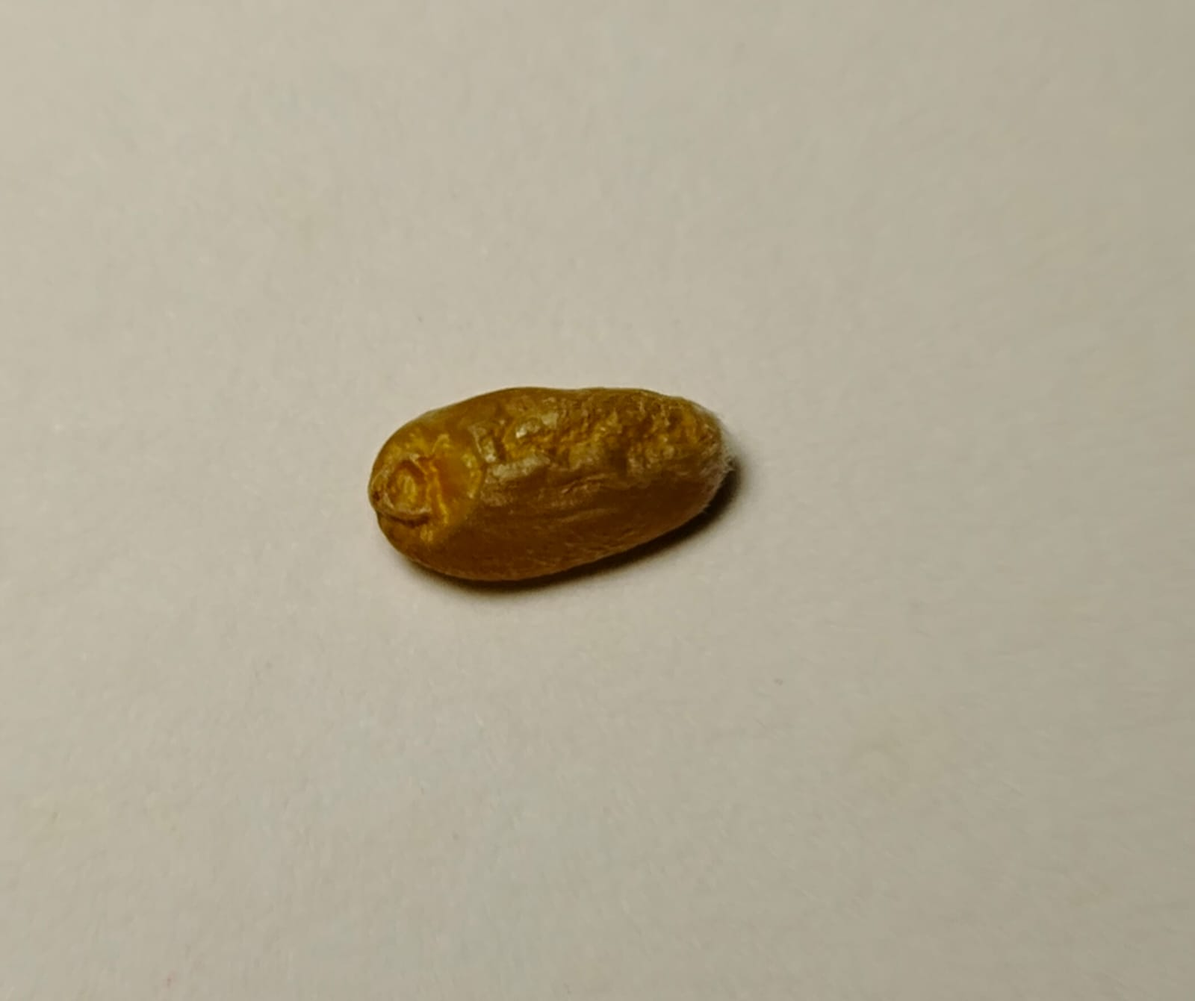healthy: (370, 387, 730, 579)
